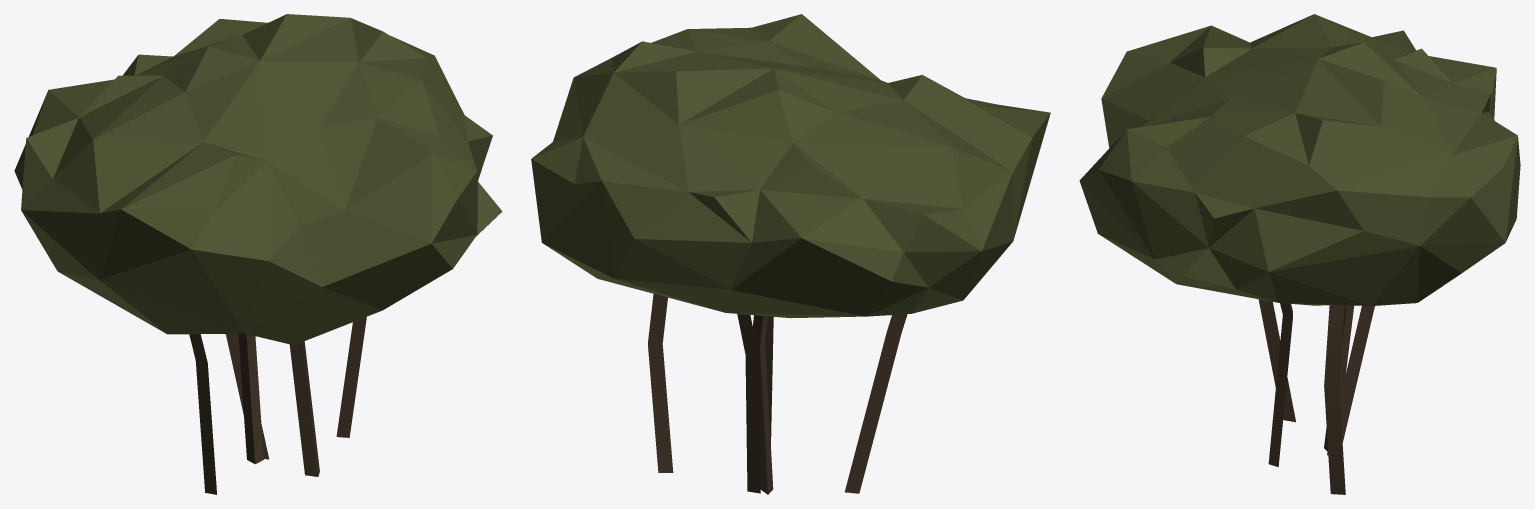
Rendered from SM_Env_Bush_01.glb.
3 views of the same model, side by side, from view 1: azimuth 30°, elevation 25°; view 2: azimuth 150°, elevation 25°; view 3: azimuth 270°, elevation 25° (orthographic). The views are drawn at different scales.
Parts seen in each view (by area): view 1: SM_Env_Bush_01; view 2: SM_Env_Bush_01; view 3: SM_Env_Bush_01.
Boxes of the visible parts, bbox=[...] form: SM_Env_Bush_01: bbox=[14, 14, 502, 494]; SM_Env_Bush_01: bbox=[531, 14, 1050, 494]; SM_Env_Bush_01: bbox=[1079, 14, 1520, 494].
Size of the model in its own units: 0.014 by 0.0132 by 0.0133.
